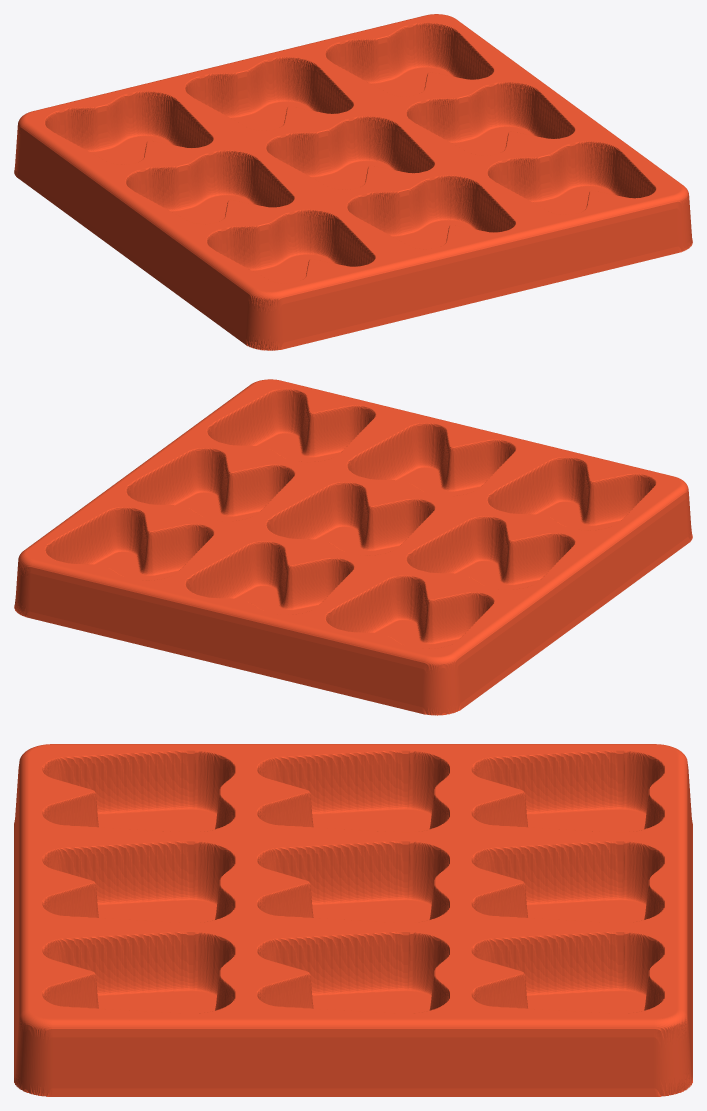
File: mold.glb
3 views of the same model, one above another, from view 1: azimuth 30°, elevation 25°; view 2: azimuth 150°, elevation 25°; view 3: azimuth 270°, elevation 25° (orthographic). The views are drawn at different scales.
Parts seen in each view (by area): view 1: geometry_0; view 2: geometry_0; view 3: geometry_0.
Part boxes in pixels (x1,y1,x2,y2): geometry_0: (14,14,692,350); geometry_0: (14,379,692,715); geometry_0: (14,744,692,1096).
Bounding box in the file's own units: 0.1595 × 0.0185 × 0.1595.
